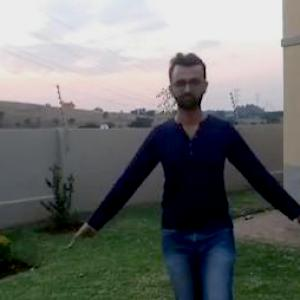land: (109, 76, 296, 298)
